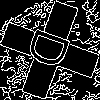D: (25, 25, 80, 75)
